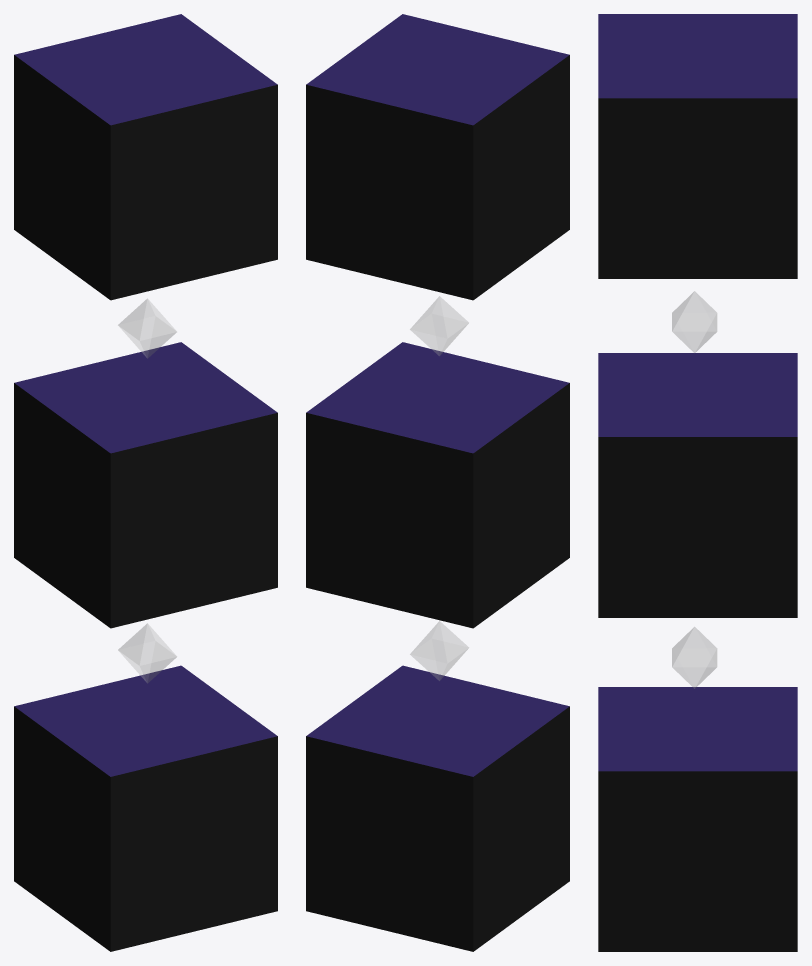
Rendered from StackA.fbx.
The picture shows the model from 3 angles, left to right: view 1: azimuth 30°, elevation 25°; view 2: azimuth 150°, elevation 25°; view 3: azimuth 270°, elevation 25°; orthographic projection. The views are drawn at different scales.
Parts seen in each view (by area): view 1: Cube, Cube_2, Cube_3, Pyramid_2, Pyramid_2_2; view 2: Cube, Cube_3, Cube_2, Pyramid_2_2, Pyramid_2; view 3: Cube, Cube_2, Cube_3, Pyramid_2, Pyramid_2_2.
Part boxes in pixels (x1,y1,x2,y2): Cube: (14,14,277,300); Cube_2: (14,342,277,628); Cube_3: (14,665,277,951); Pyramid_2: (118,298,176,358); Pyramid_2_2: (118,623,176,683); Cube: (306,14,569,300); Cube_3: (306,665,569,951); Cube_2: (306,342,569,628); Pyramid_2_2: (410,621,468,680); Pyramid_2: (410,296,468,355); Cube: (598,14,797,278); Cube_2: (598,353,797,617); Cube_3: (598,687,797,951); Pyramid_2: (672,291,717,352); Pyramid_2_2: (672,627,717,688).
Bounding box in the file's own units: 538 × 2542 × 538.
